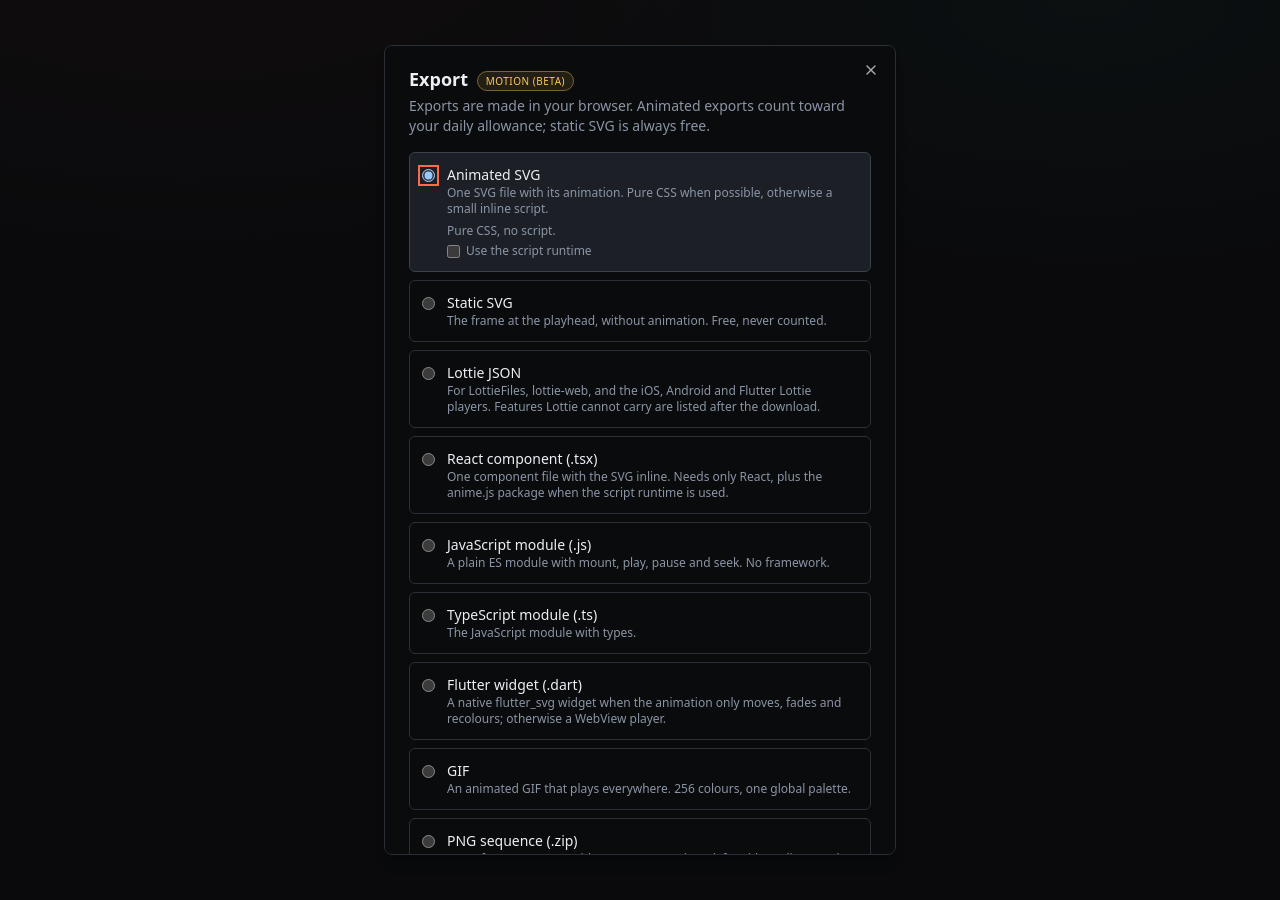
Test: MM47 raster formats in the export dialog › cancel: aborts the running encoder; nothing downloads; the unit stays spent
Click the radio button labelled "GIF".
click(428, 772)  # box x1=422 y1=765 x2=435 y2=778
(page scrolled)
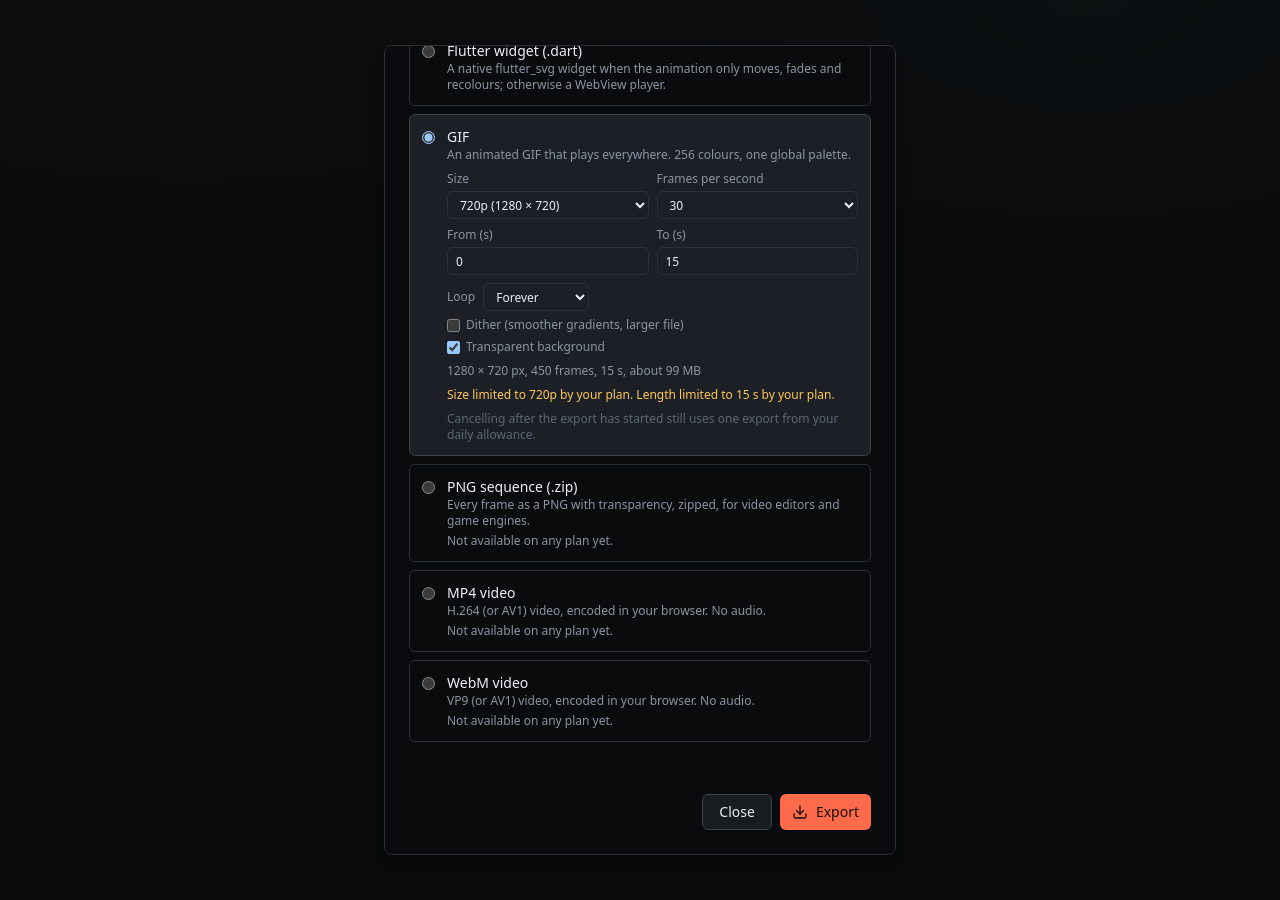
Click the button "Export".
click(825, 812)  # box x1=780 y1=794 x2=871 y2=830
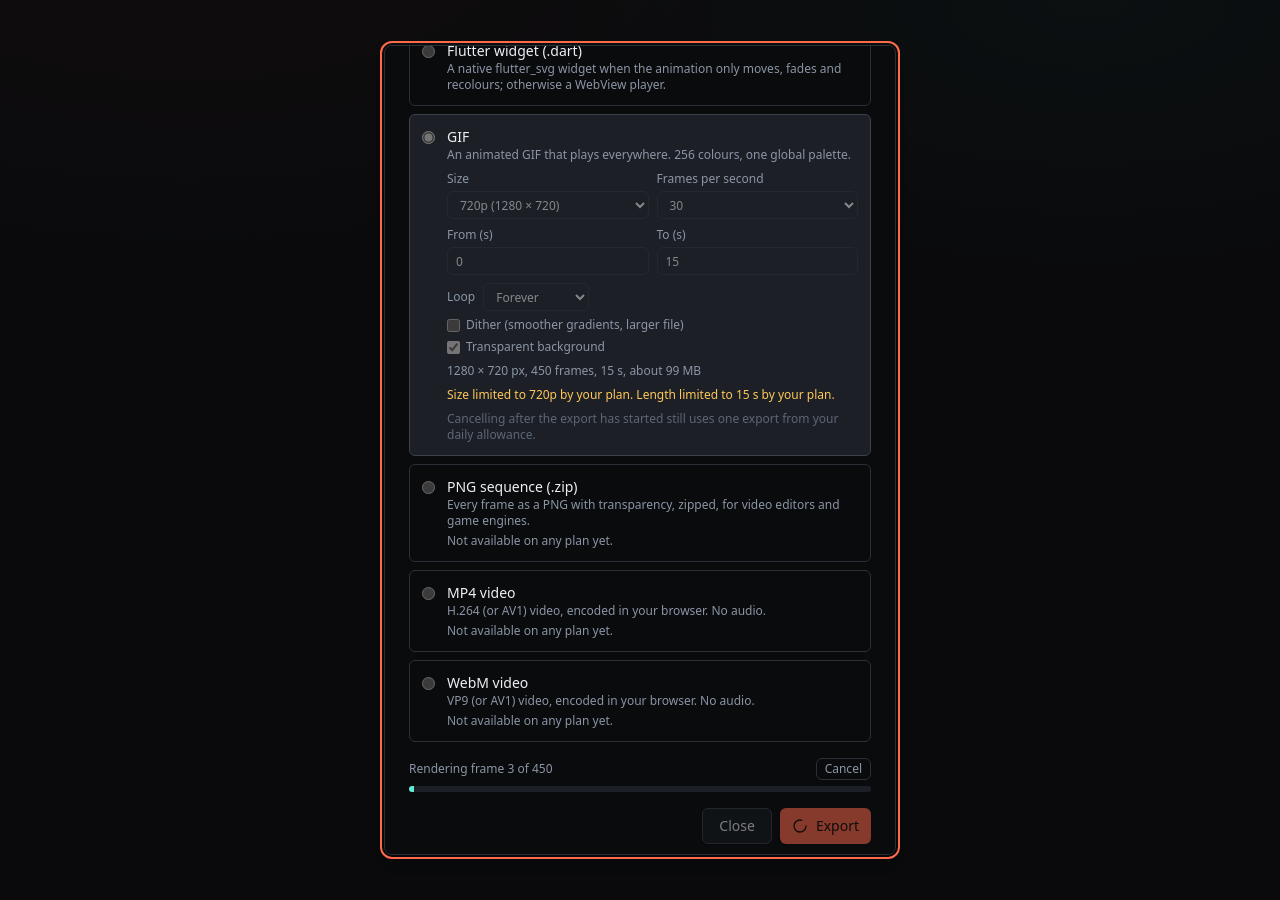
Expected: the element with test id "vector-raster-progress" shows "Rendering frame 3 of 450", x1=409 y1=760 x2=552 y2=777
Expected: the button "Export" is disabled, x1=780 y1=808 x2=871 y2=844
Click the button with test id "vector-raster-cancel".
click(843, 769)  # box x1=816 y1=758 x2=871 y2=780
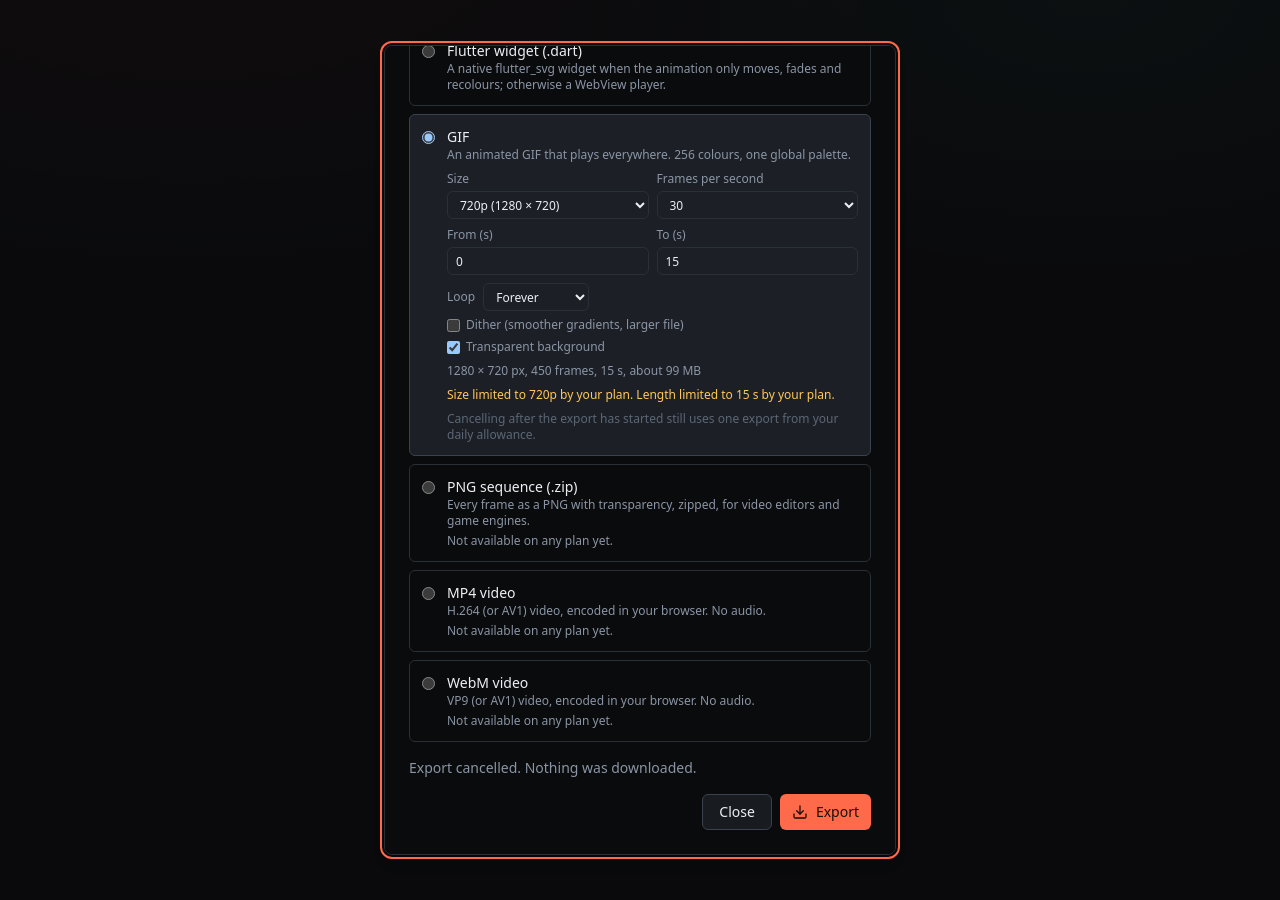
Expected: the message with test id "vector-export-status" shows "Export cancelled", x1=409 y1=758 x2=696 y2=777
